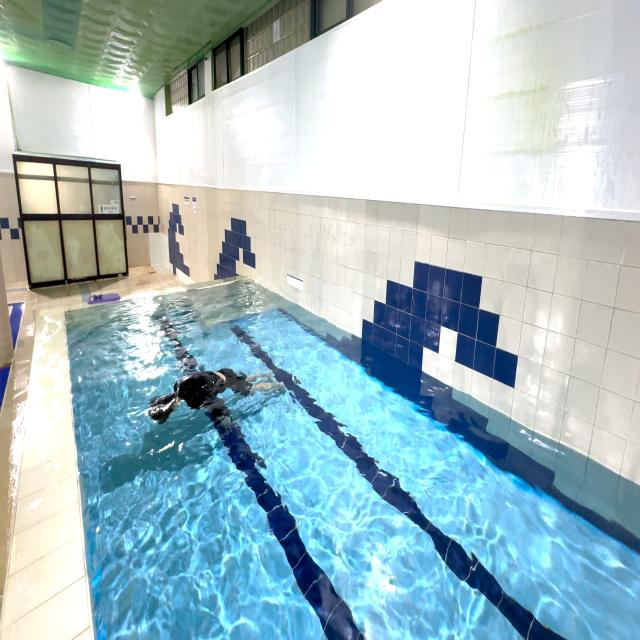Drowning: (146, 354, 290, 444)
